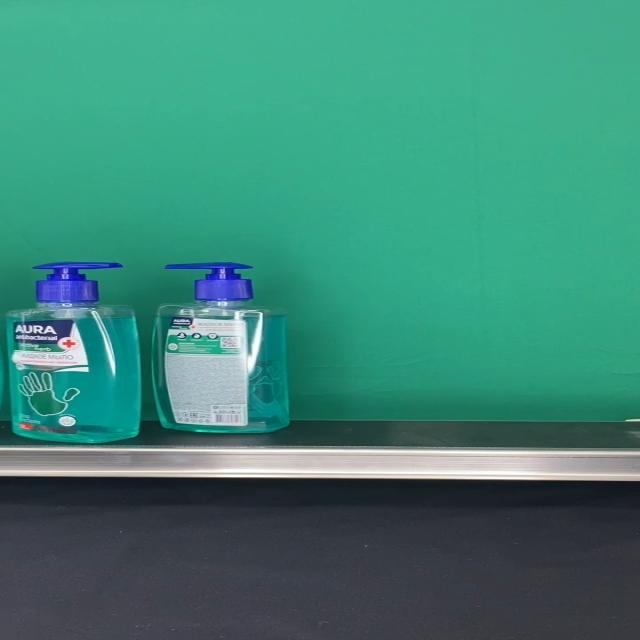Bottle: (7, 260, 141, 442), (153, 263, 290, 433)
Cap: (30, 261, 122, 302), (162, 263, 252, 303)
